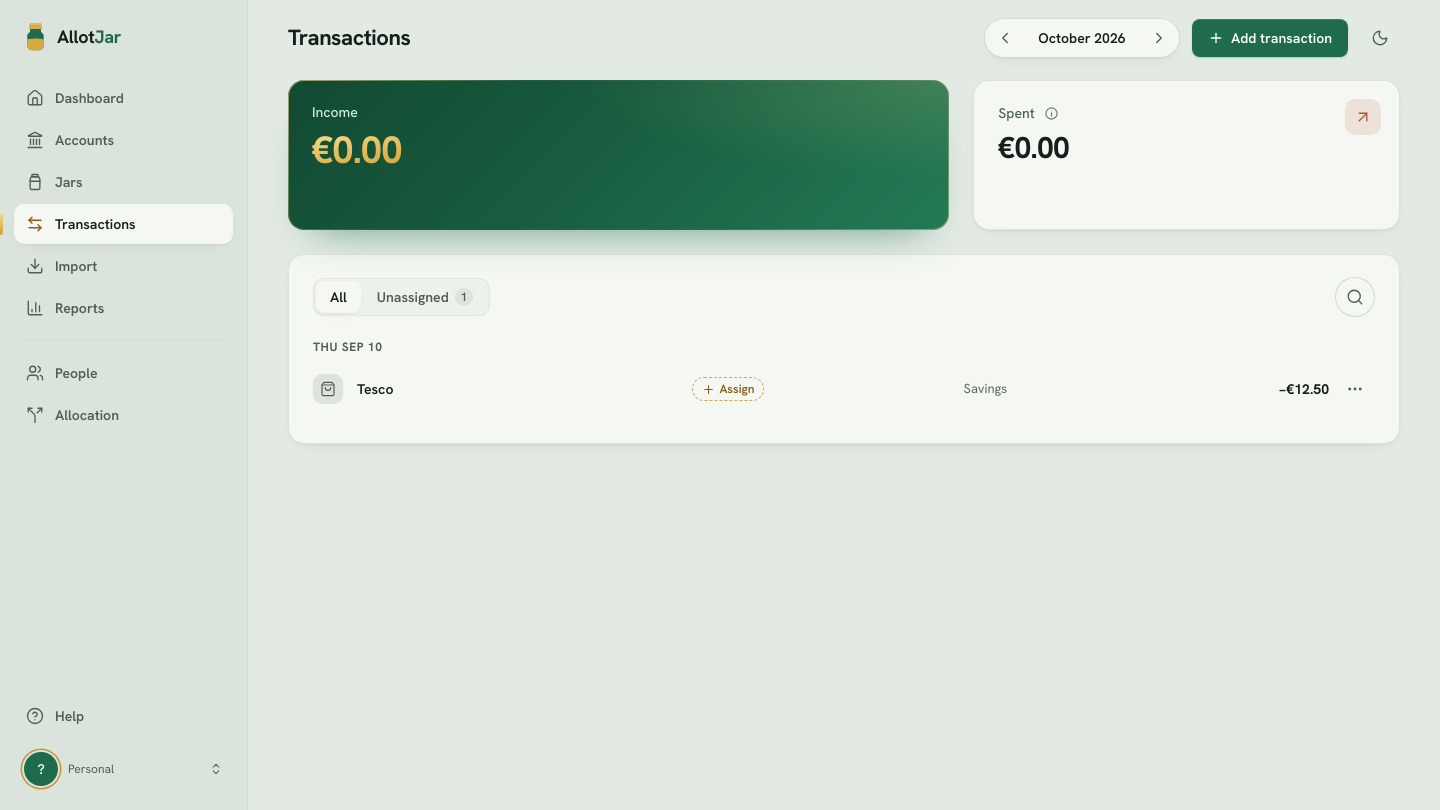
it: TransactionsPage jar prompts › prompts on inline assign to a non-jar line and sends the jar with the assignment
Click the button with aria-label "Assign Tesco" at (728, 389), box [692,377,764,401]
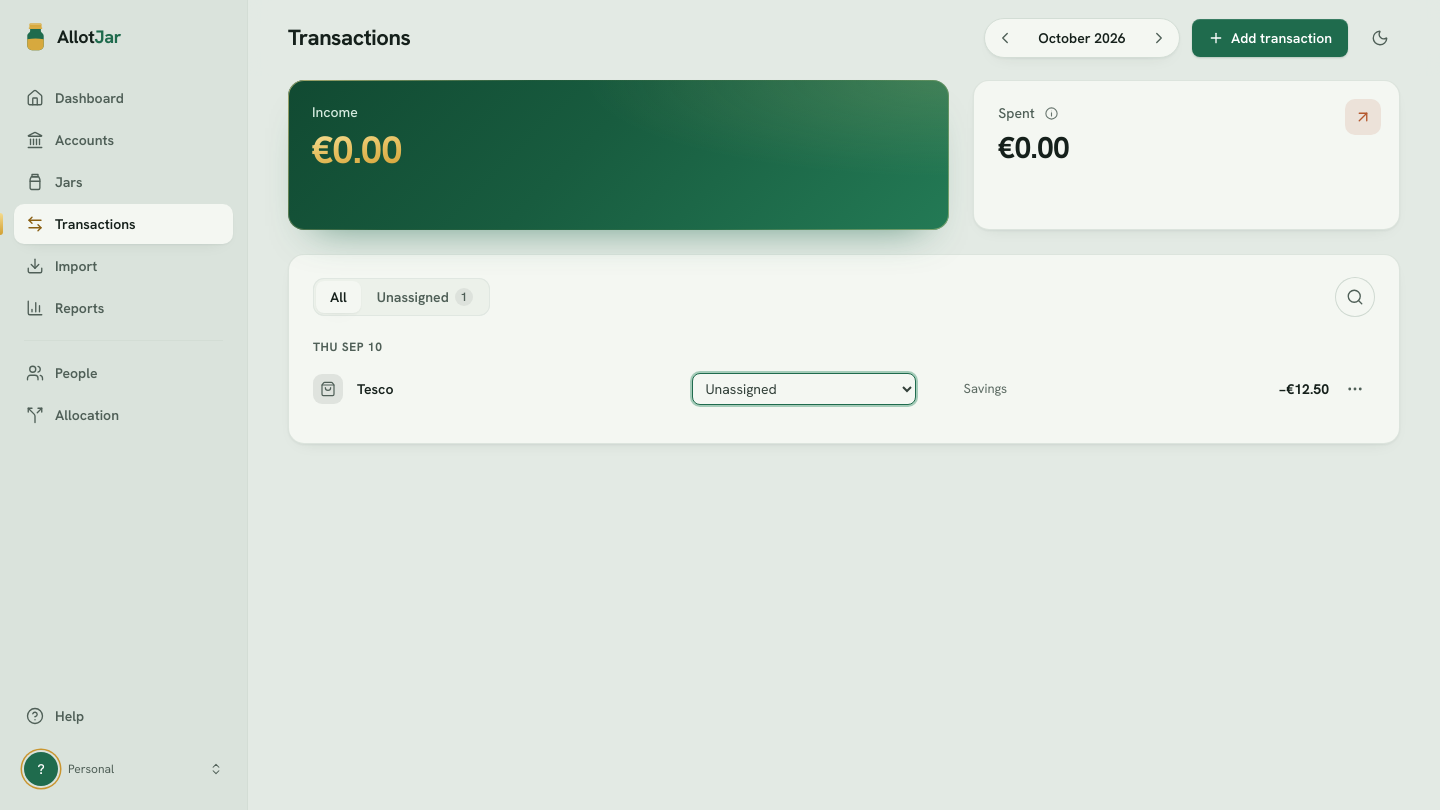
Select "Rent" in the dropdown named "Assign Tesco" at (804, 389), box [692,373,916,405]
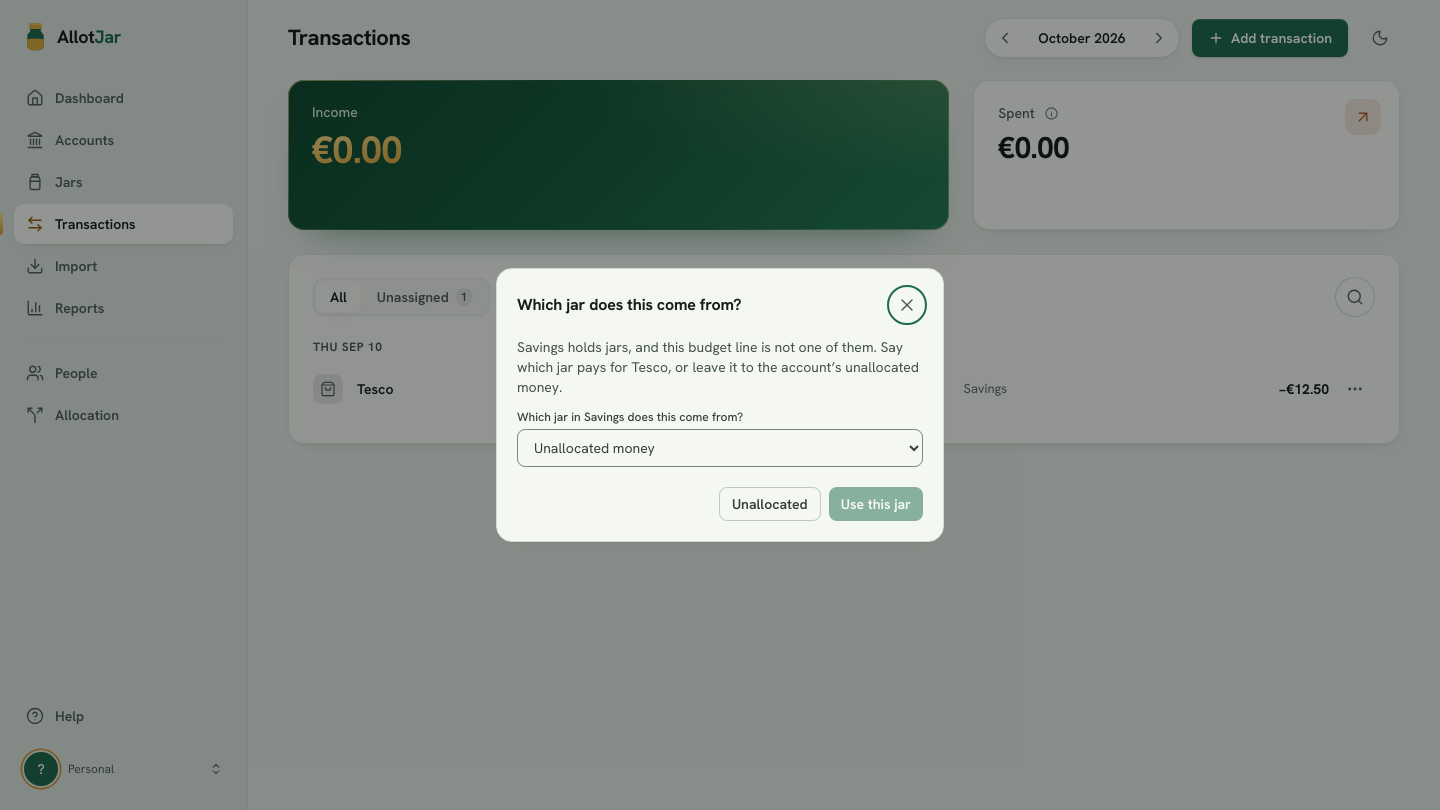
Select "Car (€100.00)" in the dropdown labelled "Which jar in Savings does this come from?" at (720, 448), box [517,429,923,467]
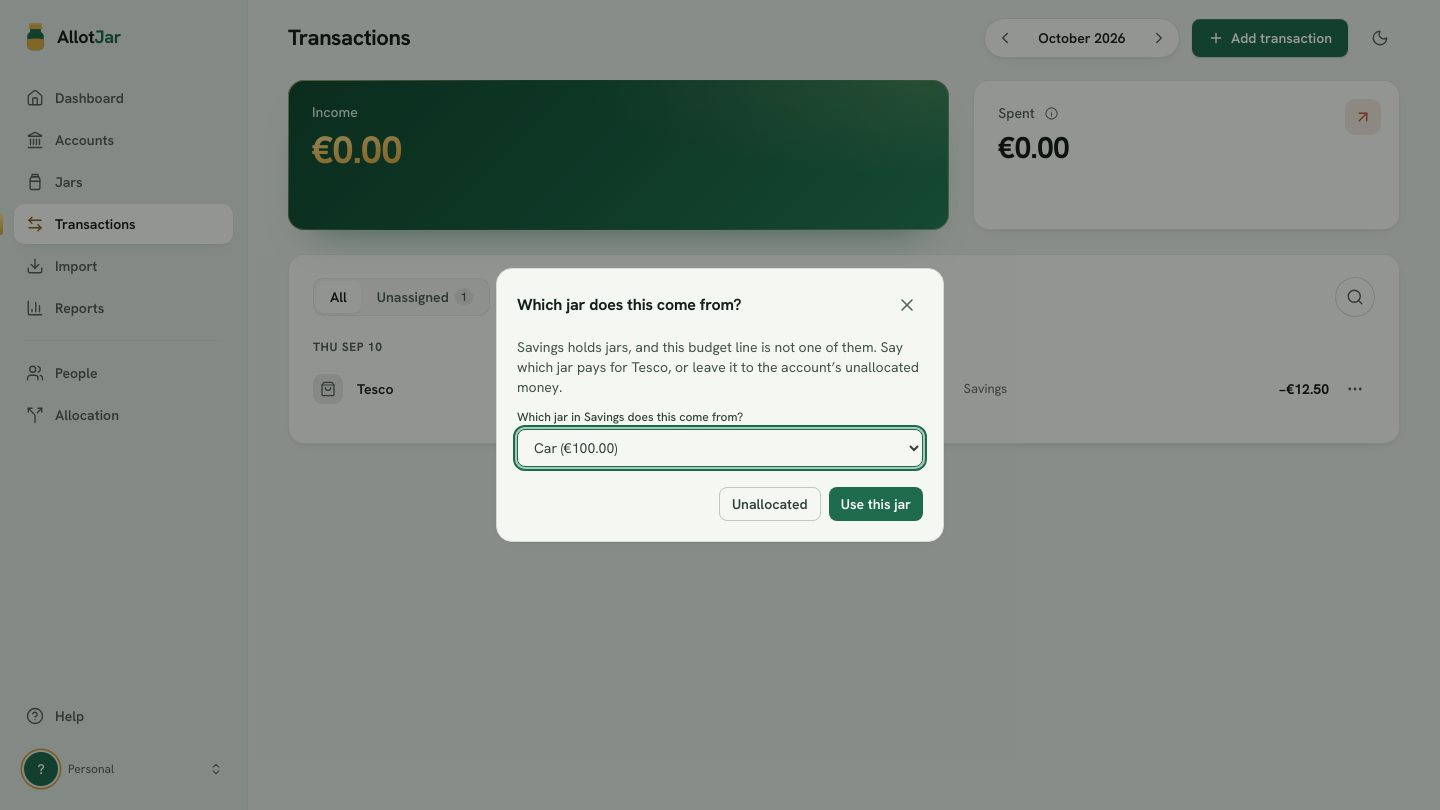
Click the button "Use this jar" at (876, 504), box [829,487,923,521]
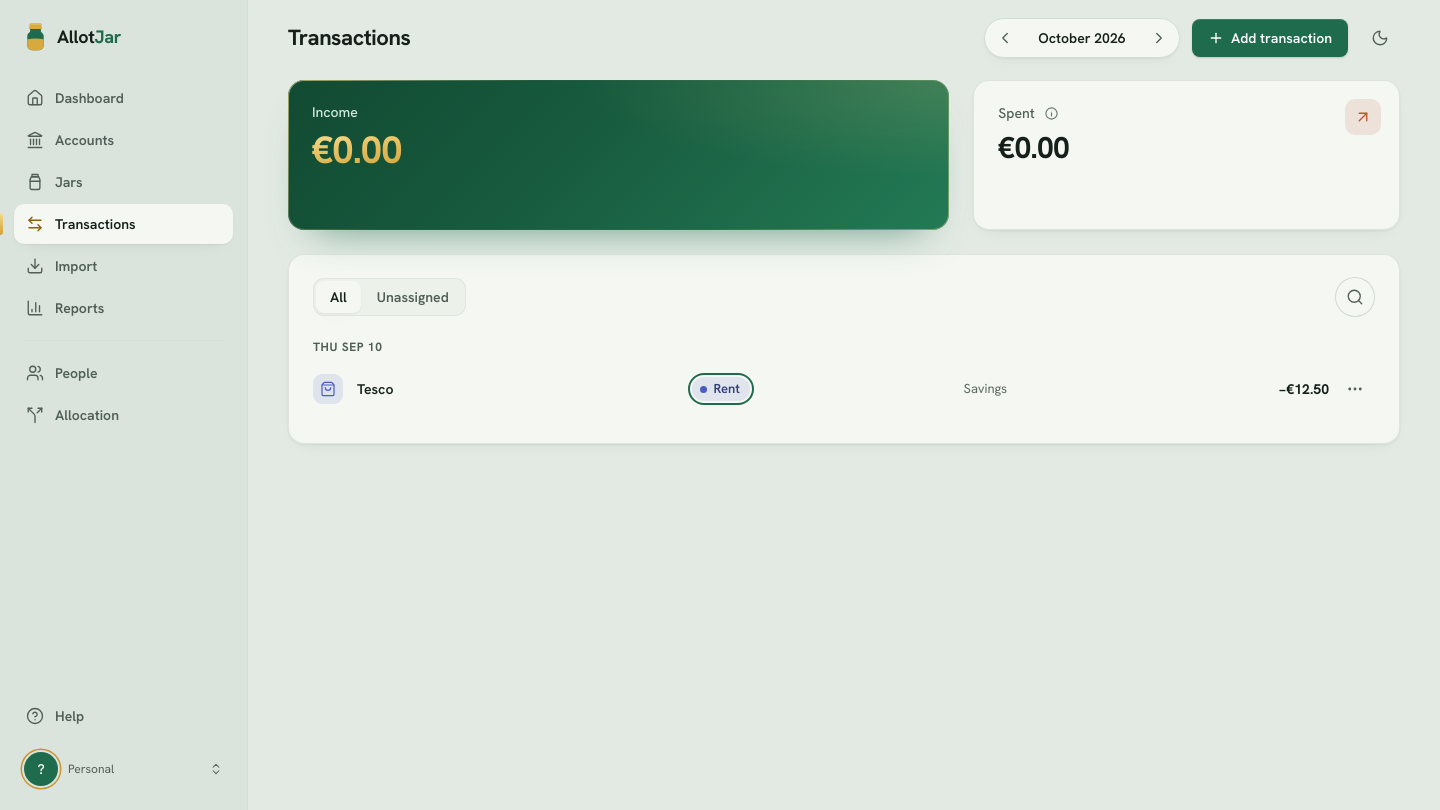
Expected: the dialog is gone
